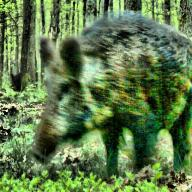boar: (23, 23, 192, 183)
